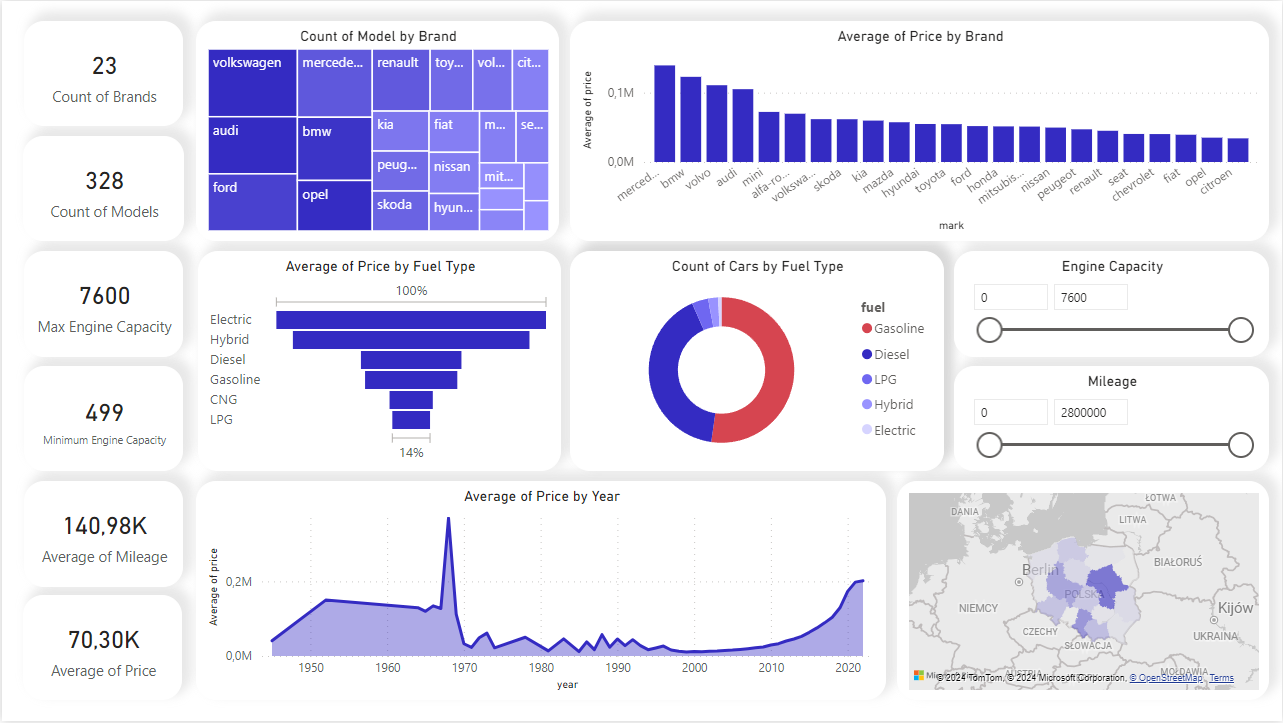

The page's visual inventory and layout, read from the dashboard file:
{"tool":"powerbi","page":{"name":"Car Prices Poland","canvas":[1280,720],"ordinal":0},"visuals":[{"type":"card","fields":{"Values":["Car_Prices_Poland_Kaggle.price"]},"box":[21,594,159,105],"z":4500},{"type":"card","fields":{"Values":["Car_Prices_Poland_Kaggle.mileage"]},"box":[22,480,159,106],"z":5000},{"type":"areaChart","title":"Average of Price by Year","fields":{"Category":["Car_Prices_Poland_Kaggle.year"],"Y":["Car_Prices_Poland_Kaggle.price"]},"box":[194,480,690,219],"z":8000},{"type":"filledMap","fields":{"Category":["Car_Prices_Poland_Kaggle.province"]},"box":[895,480,372,219],"z":10000},{"type":"card","fields":{"Values":["Car_Prices_Poland_Kaggle.vol_engine"]},"box":[22,365,159,105],"z":10500},{"type":"card","fields":{"Values":["Car_Prices_Poland_Kaggle.vol_engine"]},"box":[22,250,159,106],"z":11000},{"type":"funnel","title":"Average of Price by Fuel Type","fields":{"Category":["Car_Prices_Poland_Kaggle.fuel"],"Y":["Car_Prices_Poland_Kaggle.price"]},"box":[196,250,362.7,220],"z":11250},{"type":"donutChart","title":"Count of Cars by Fuel Type","fields":{"Category":["Car_Prices_Poland_Kaggle.fuel"],"Y":["Car_Prices_Poland_Kaggle.fuel"]},"box":[567.8,250,374.5,220],"z":11500},{"type":"slicer","title":"Mileage","fields":{"Values":["Car_Prices_Poland_Kaggle.mileage"]},"box":[952,365,315,105],"z":12000},{"type":"slicer","title":"Engine Capacity","fields":{"Values":["Car_Prices_Poland_Kaggle.vol_engine"]},"box":[952,250,315,106],"z":13000},{"type":"card","fields":{"Values":["Car_Prices_Poland_Kaggle.model"]},"box":[21,135,161,105],"z":13062},{"type":"card","fields":{"Values":["Car_Prices_Poland_Kaggle.mark"]},"box":[22,20,159,105],"z":13125},{"type":"treemap","title":"Count of Model by Brand","fields":{"Values":["Car_Prices_Poland_Kaggle.model"],"Group":["Car_Prices_Poland_Kaggle.mark"]},"box":[194,20,363,220],"z":13250},{"type":"columnChart","title":"Average of Price by Brand","fields":{"Category":["Car_Prices_Poland_Kaggle.mark"],"Y":["Car_Prices_Poland_Kaggle.price"]},"box":[568,20,699,220],"z":13500}]}

Visuals, with their boxes in screenshot pixels (x1, y1, x2, y2), scaled from the page's 1280x720 canvas onto the 1283x723 screenshot:
card - Car_Prices_Poland_Kaggle.price: box=[21, 596, 180, 702]
card - Car_Prices_Poland_Kaggle.mileage: box=[22, 482, 181, 588]
"Average of Price by Year" areaChart: box=[194, 482, 886, 702]
filledMap - Car_Prices_Poland_Kaggle.province: box=[897, 482, 1270, 702]
card - Car_Prices_Poland_Kaggle.vol_engine: box=[22, 367, 181, 472]
card - Car_Prices_Poland_Kaggle.vol_engine: box=[22, 251, 181, 357]
"Average of Price by Fuel Type" funnel: box=[196, 251, 560, 472]
"Count of Cars by Fuel Type" donutChart: box=[569, 251, 945, 472]
"Mileage" slicer: box=[954, 367, 1270, 472]
"Engine Capacity" slicer: box=[954, 251, 1270, 357]
card - Car_Prices_Poland_Kaggle.model: box=[21, 136, 182, 241]
card - Car_Prices_Poland_Kaggle.mark: box=[22, 20, 181, 126]
"Count of Model by Brand" treemap: box=[194, 20, 558, 241]
"Average of Price by Brand" columnChart: box=[569, 20, 1270, 241]
